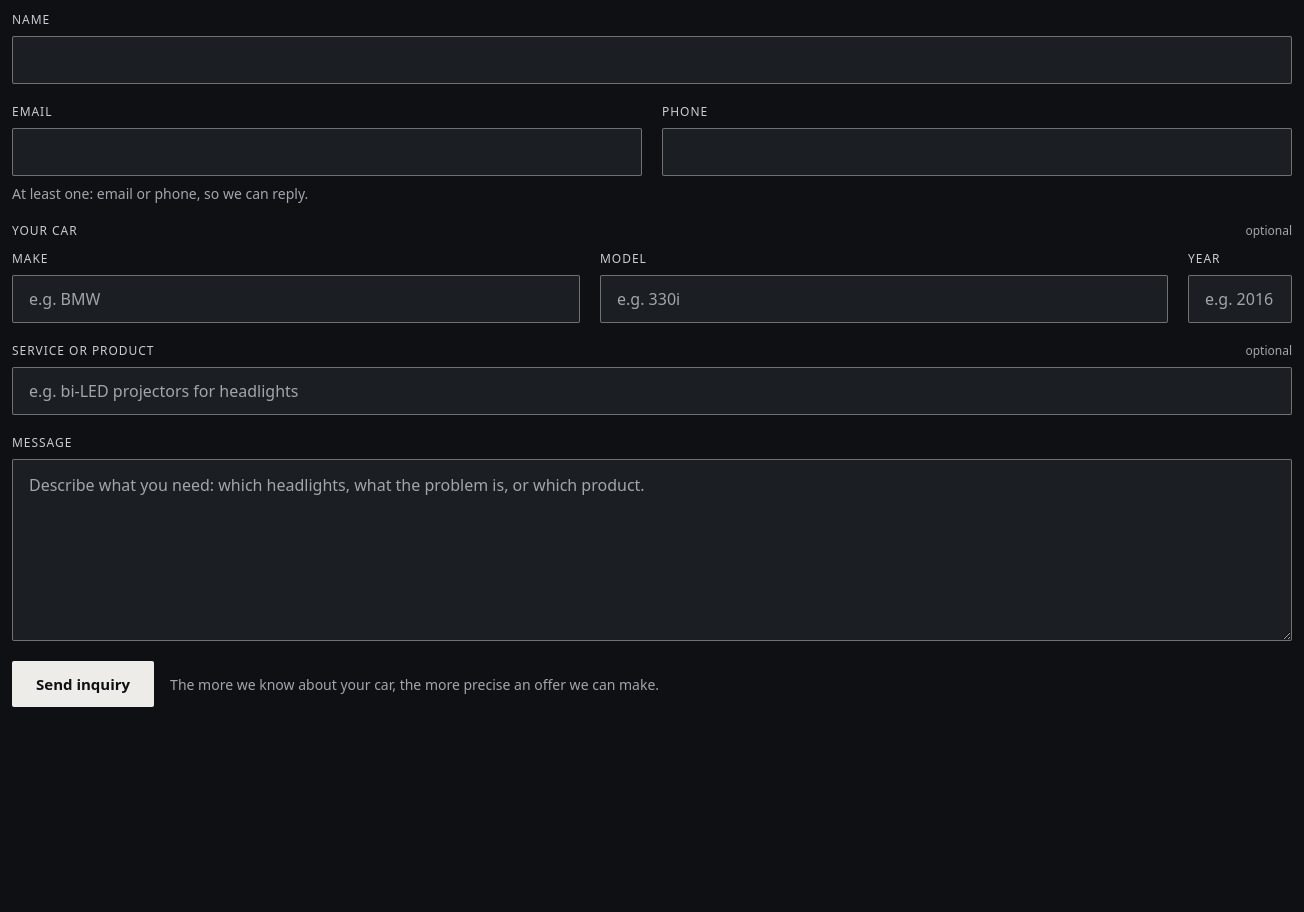
Test: InquiryForm › when the action fails in transport › says the same in English
In the field labelled "Name": (652, 60) [12, 36, 1292, 84], type "Mari Maasikas"
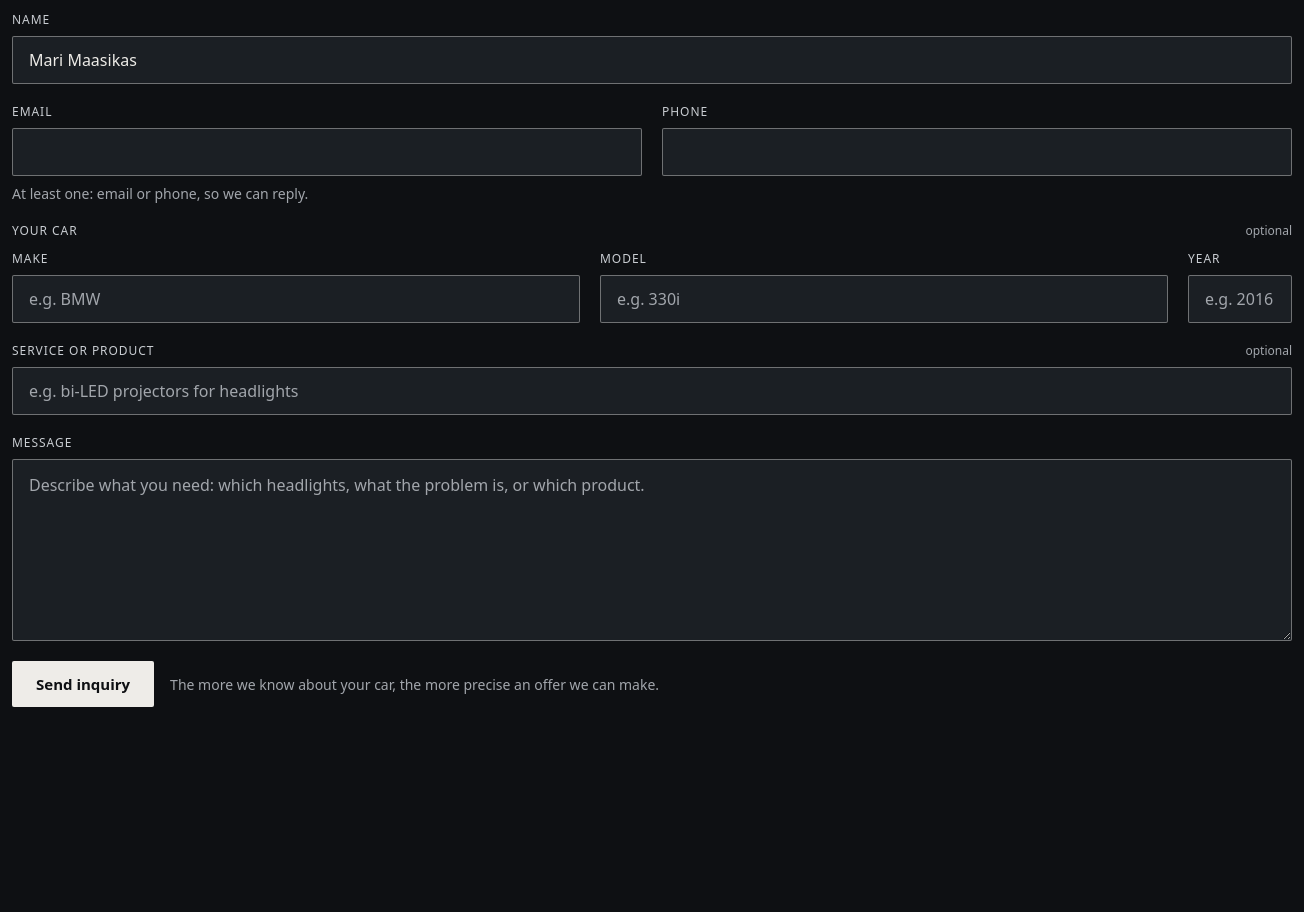
In the field labelled "Phone": (977, 152) [662, 128, 1292, 176], type "+372 5555 5555"
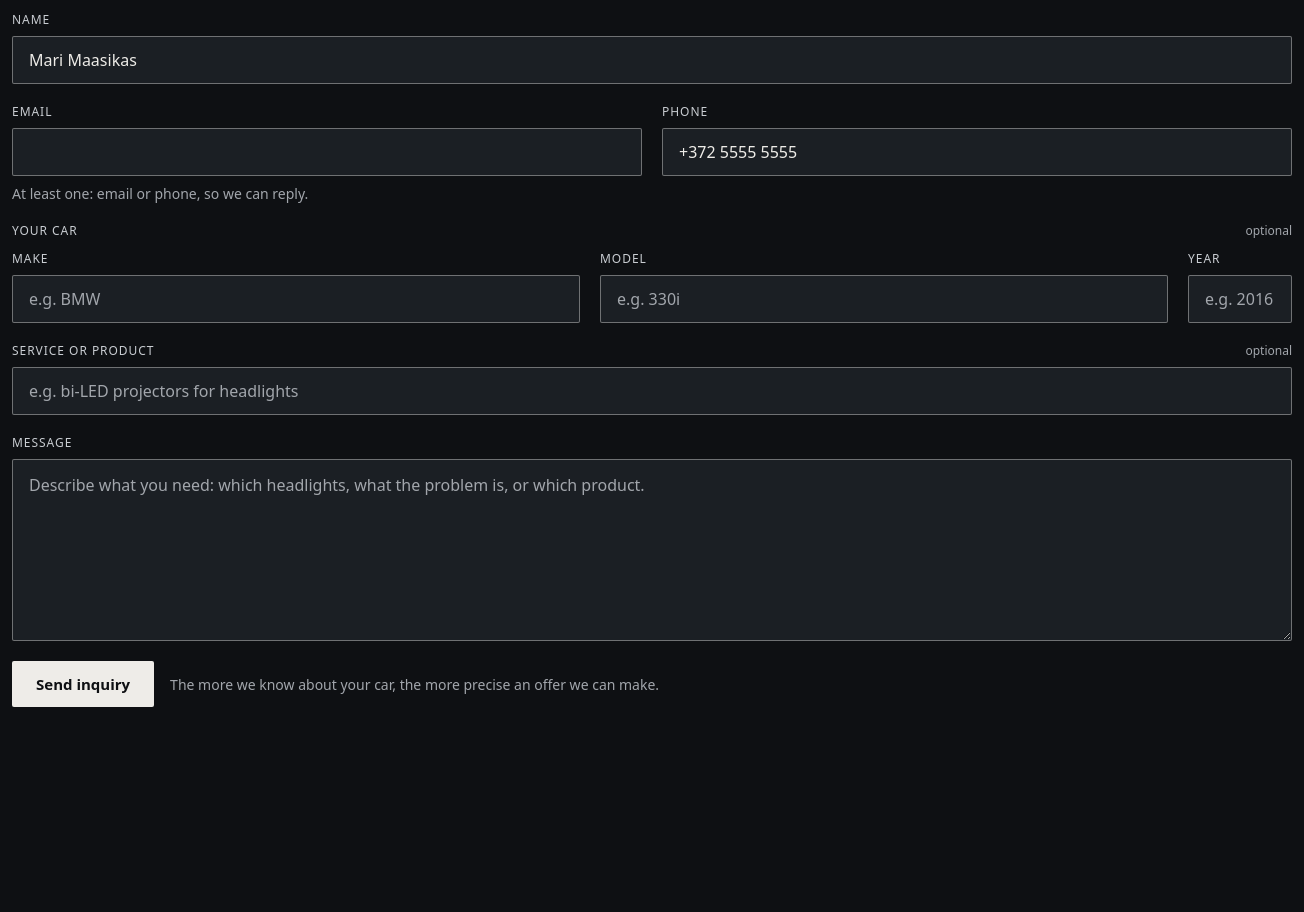
Replace the text in the text box labelled "Message" with "Hello": (652, 550) [12, 459, 1292, 641]
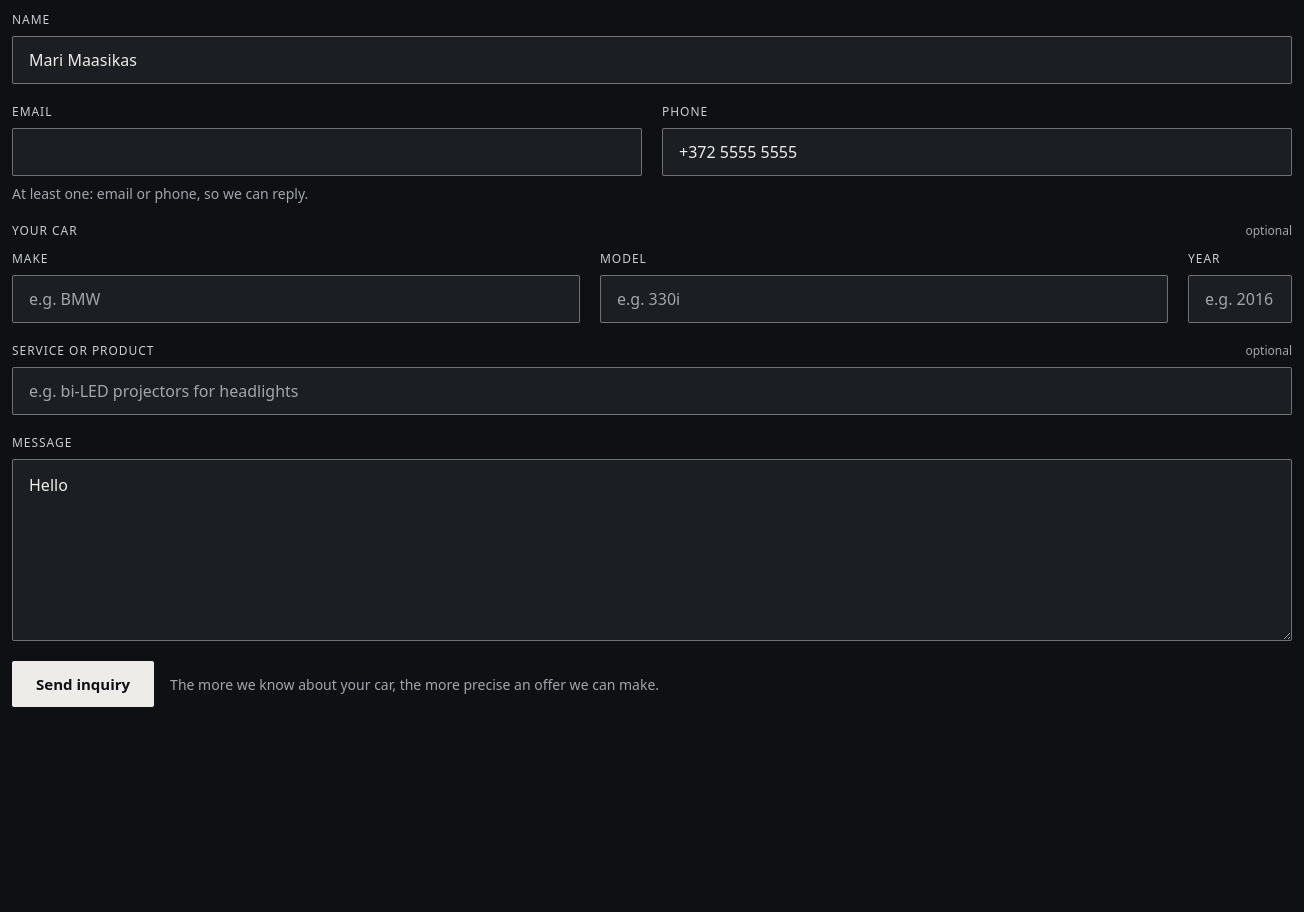
Submit the form
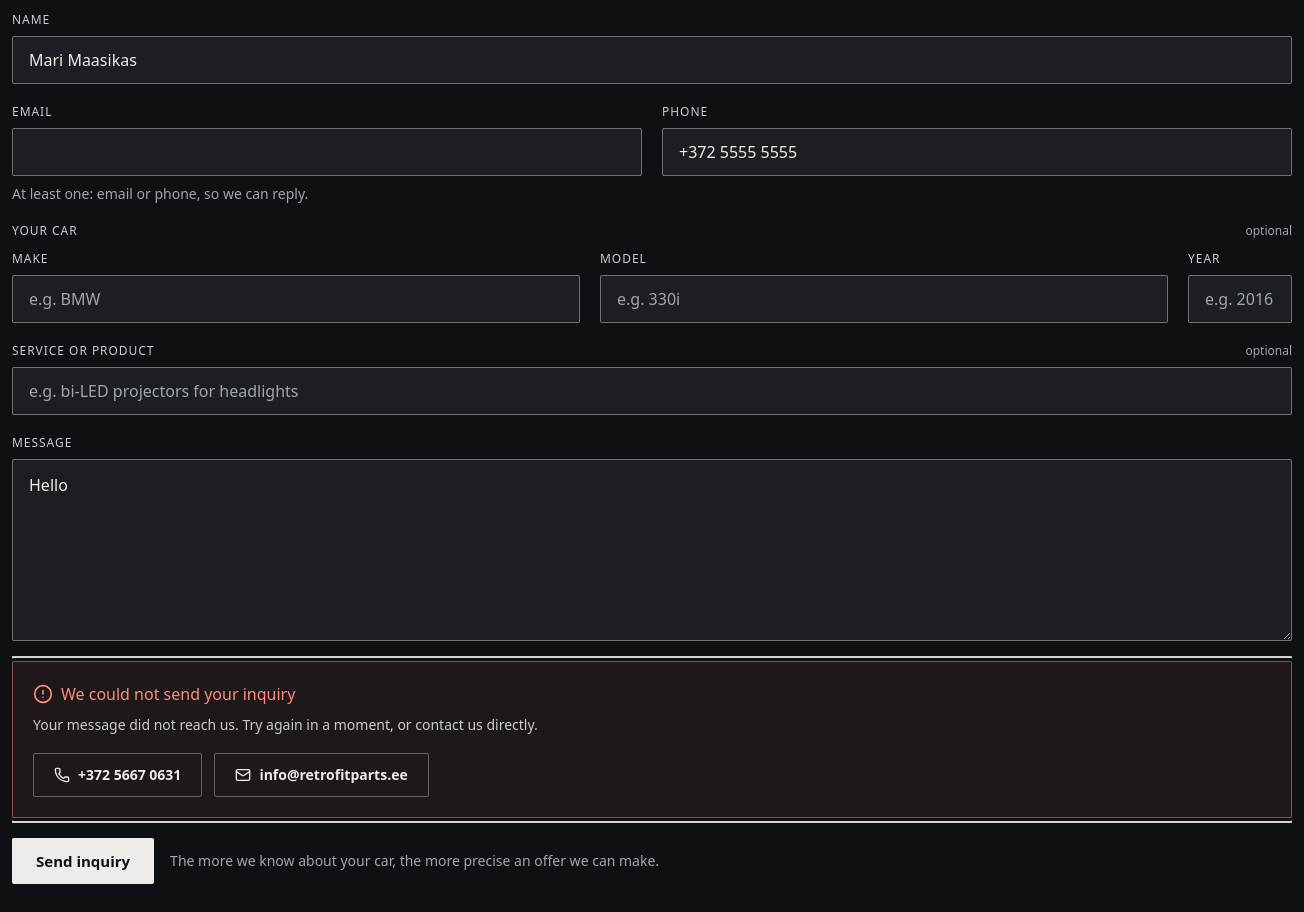
Check: the message shows "We could not send your inquiry", box [61, 683, 295, 705]
Check: the link "+372 5667 0631" is shown, box [33, 753, 202, 797]
